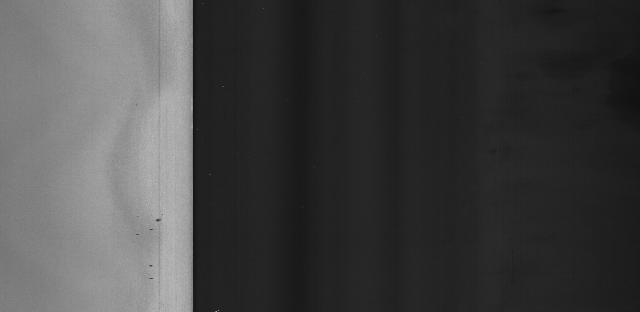oil_spot: (139, 215, 170, 235), (143, 259, 161, 288)
